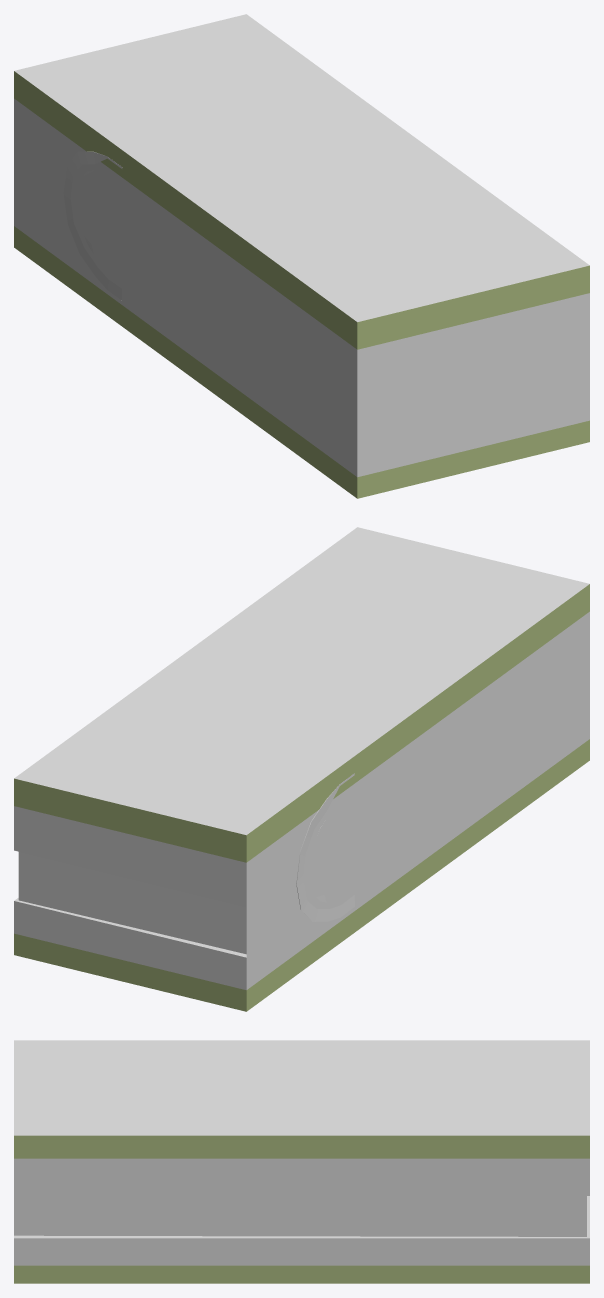
3 renders of one model, top to bottom at view 1: azimuth 30°, elevation 25°; view 2: azimuth 150°, elevation 25°; view 3: azimuth 270°, elevation 25°, orthographic. The views are drawn at different scales.
Visible parts, largest first — view 1: green_int1:Walls, green_int1:mirror_part; view 2: green_int1:Walls, green_int1:mirror_part; view 3: green_int1:Walls.
Part boxes in pixels (bbox=[...]): green_int1:Walls: bbox=[14, 14, 589, 498]; green_int1:mirror_part: bbox=[63, 151, 122, 300]; green_int1:Walls: bbox=[14, 527, 589, 1011]; green_int1:mirror_part: bbox=[296, 773, 354, 921]; green_int1:Walls: bbox=[14, 1040, 589, 1283].
Size of the model in its own units: 30.17 by 22.81 by 77.06.
